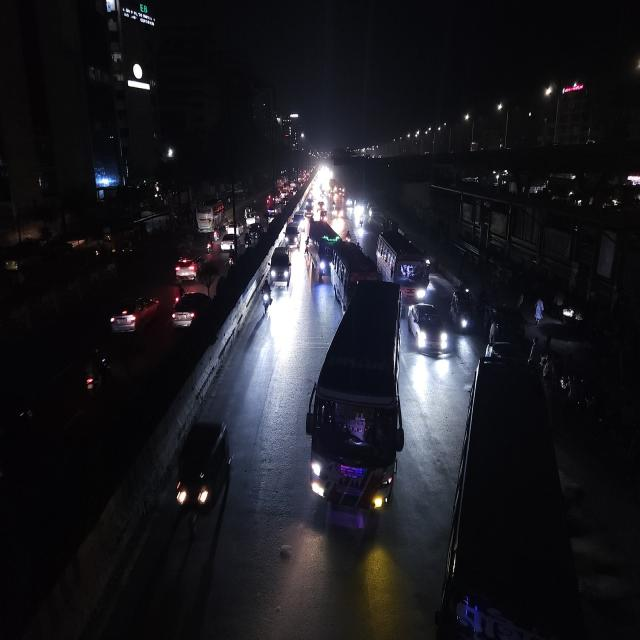bus: (447, 351, 579, 640), (307, 282, 407, 536), (376, 227, 433, 300), (331, 241, 379, 308), (306, 220, 338, 282), (195, 198, 225, 234)
car: (406, 300, 449, 358), (109, 292, 161, 338), (169, 287, 215, 333), (268, 243, 294, 291), (172, 252, 207, 281), (284, 221, 300, 250), (220, 233, 237, 252)
cng: (173, 415, 232, 534), (449, 283, 475, 337)
motorcycle: (81, 348, 112, 405), (258, 275, 275, 316), (204, 232, 216, 255), (227, 252, 237, 270), (343, 227, 352, 243)
pedestrian: (532, 296, 546, 325)
